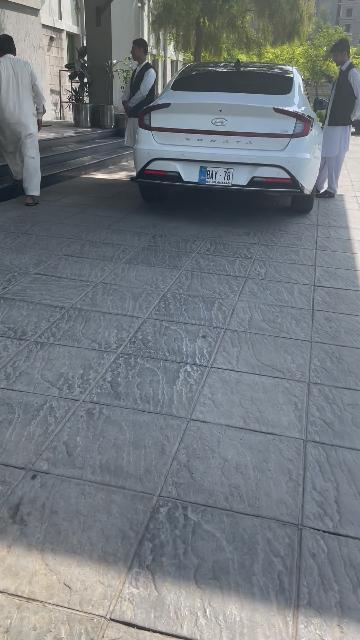plate: (194, 164, 236, 186)
